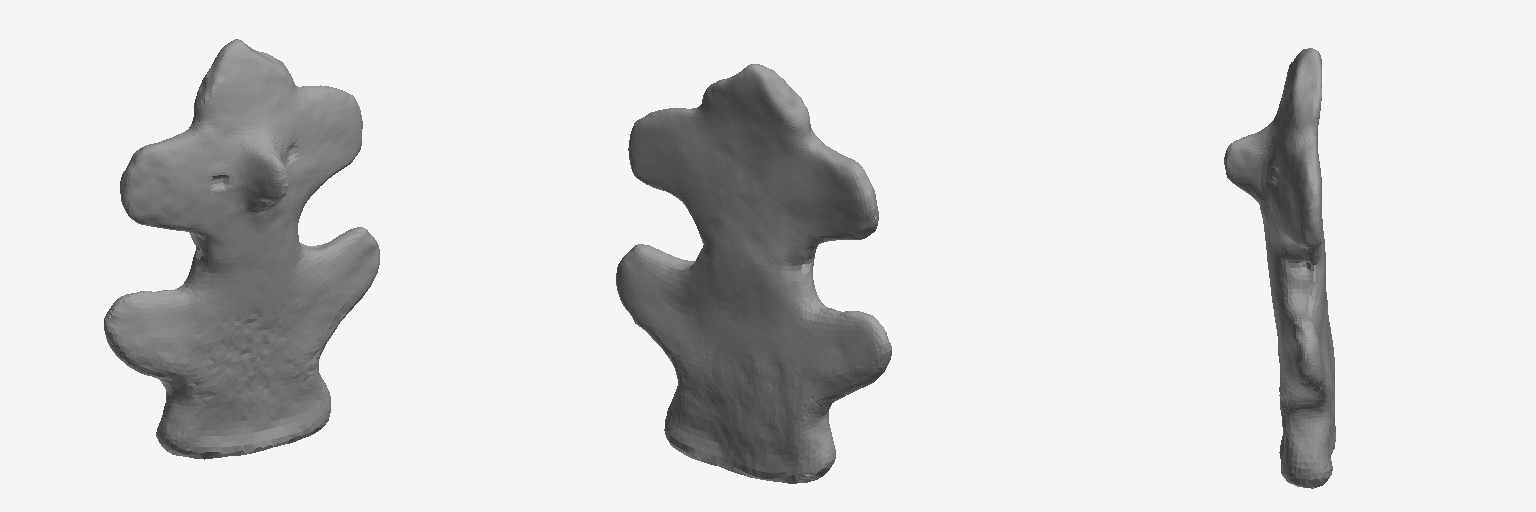
File: guatimac_retopo_2017b.obj
3 views of the same model, side by side, from view 1: azimuth 30°, elevation 25°; view 2: azimuth 150°, elevation 25°; view 3: azimuth 270°, elevation 25° (orthographic).
Parts seen in each view (by area): view 1: Guatimac_retopo_Plane.001; view 2: Guatimac_retopo_Plane.001; view 3: Guatimac_retopo_Plane.001.
Part boxes in pixels (x1,y1,x2,y2): Guatimac_retopo_Plane.001: (104, 39, 379, 459); Guatimac_retopo_Plane.001: (616, 64, 891, 483); Guatimac_retopo_Plane.001: (1224, 48, 1335, 488).
Bounding box in the file's own units: 0.7419 × 1.06 × 0.2637.